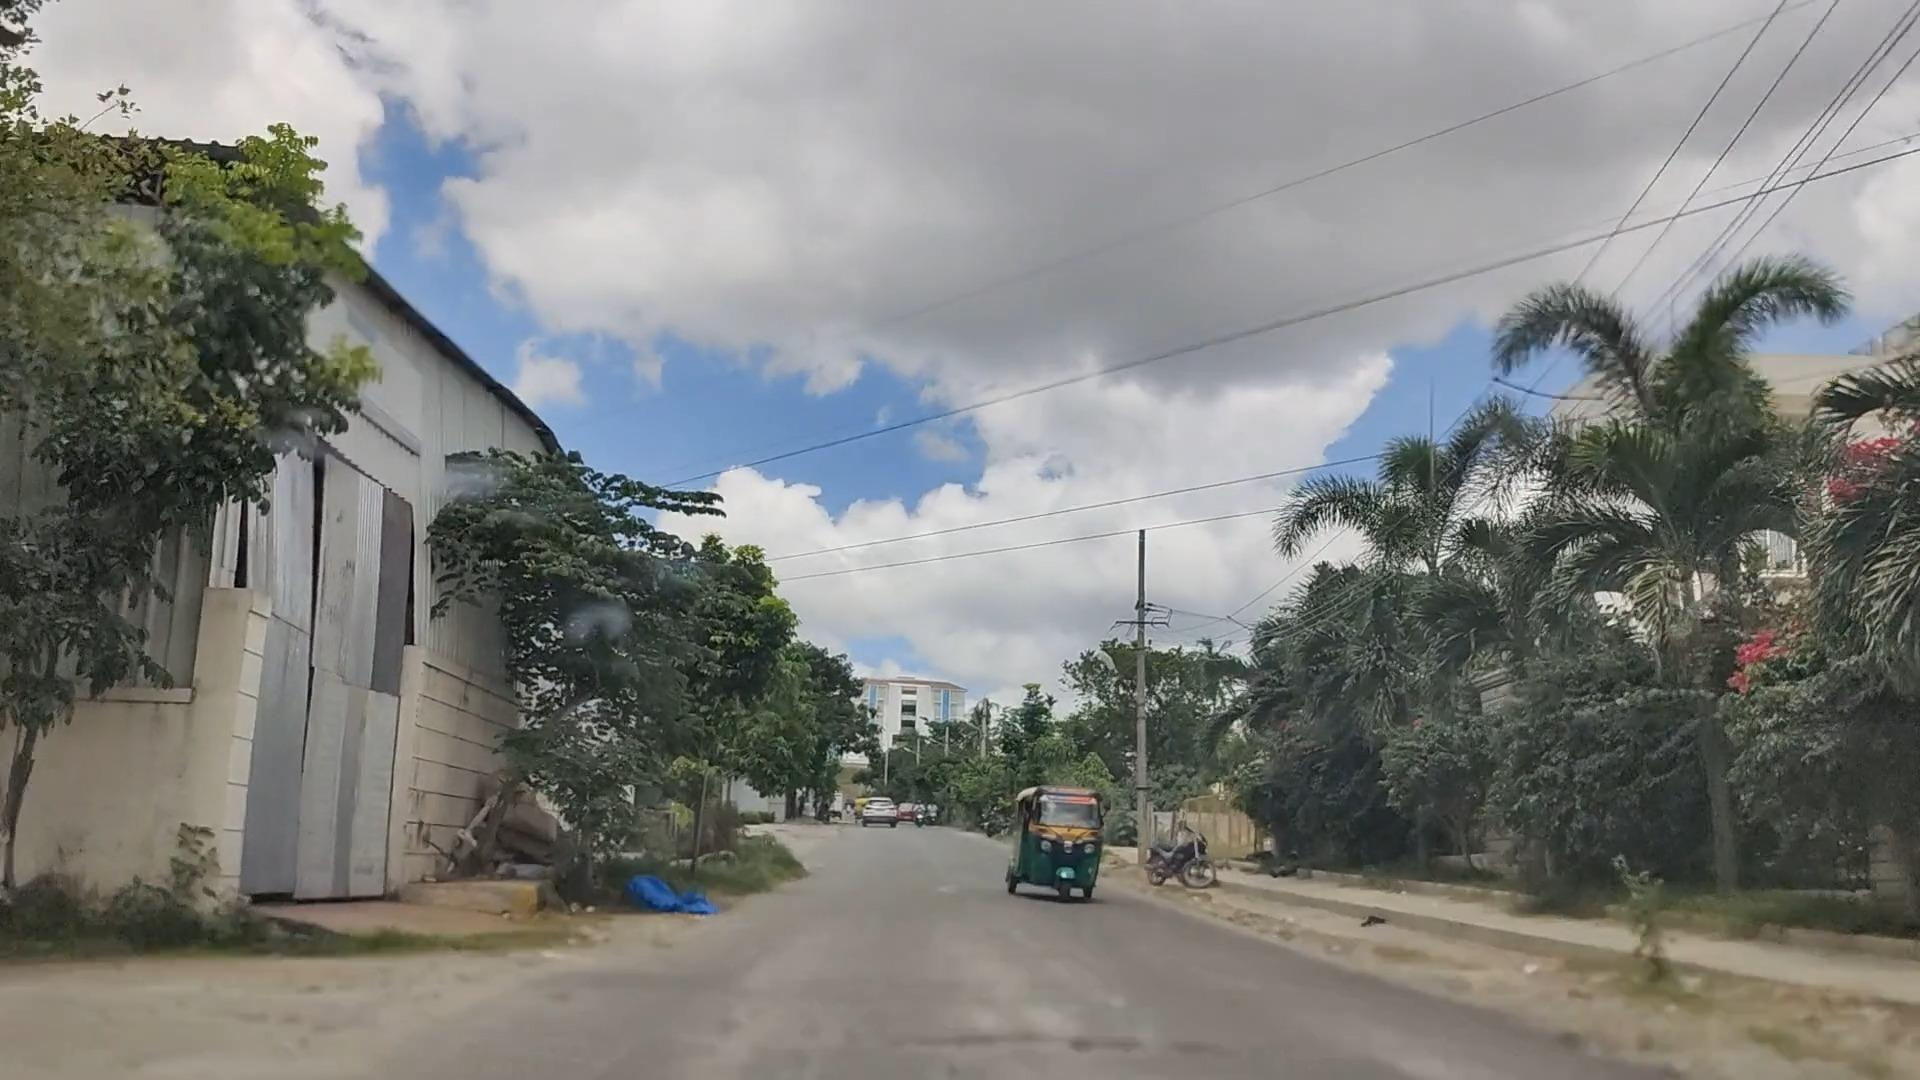RoadDamages: (848, 975, 1222, 1080)
